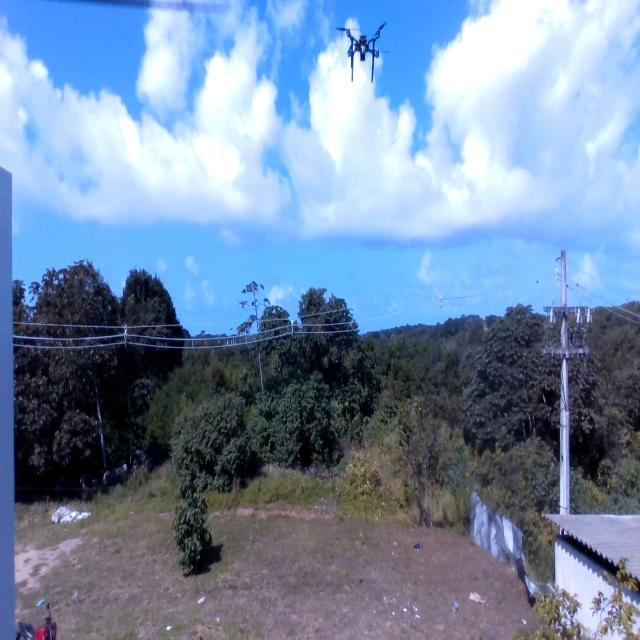-uav-: (330, 16, 394, 88)
